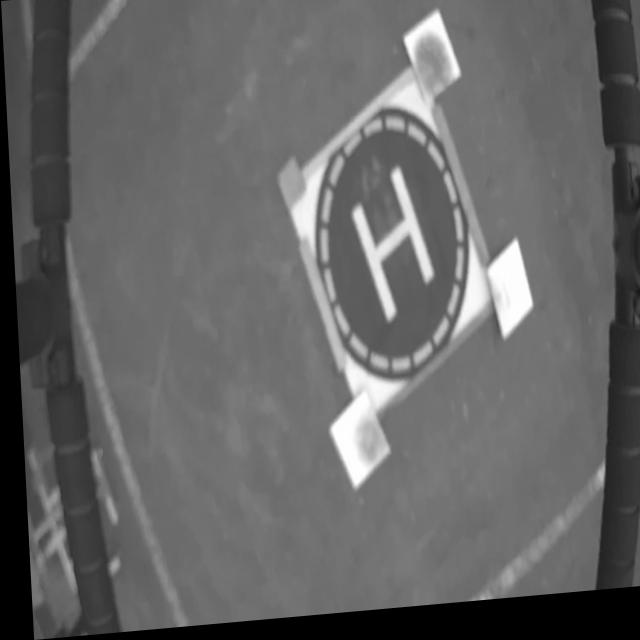Helipad: (347, 170, 431, 328)
